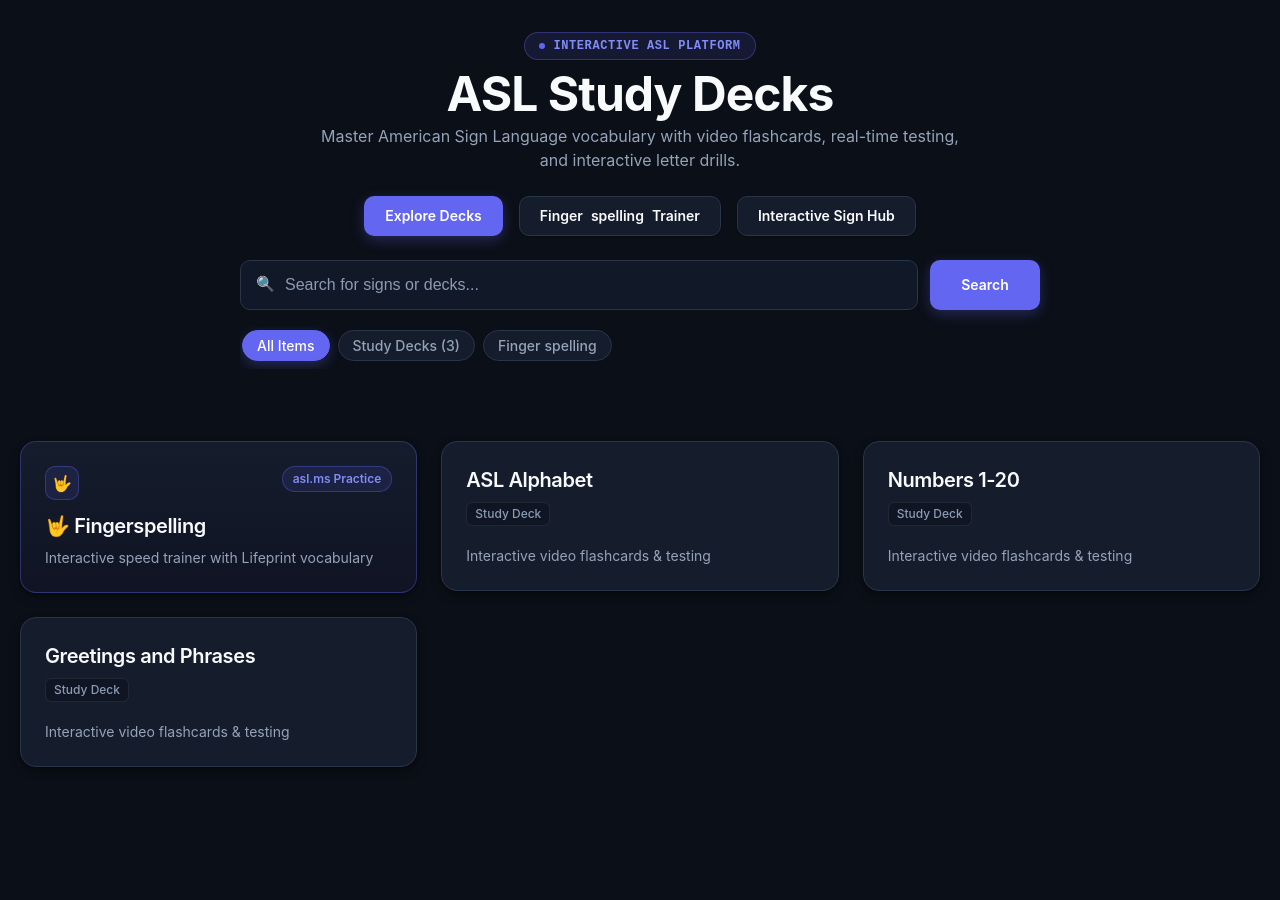
it: Home Component (Features 11 to 15) › Feature 12: Real-Time Search and Category Filters › filters decks in real-time as user types in the search input
The width and height of the screenshot is (1280, 900).
Expected: the heading "ASL Alphabet" is shown, [466,468,593,492]
Type "Alphabet" into the field with placeholder "Search for signs or decks...".
click(579, 284); type("Alphabet")  # box [240,260,918,310]
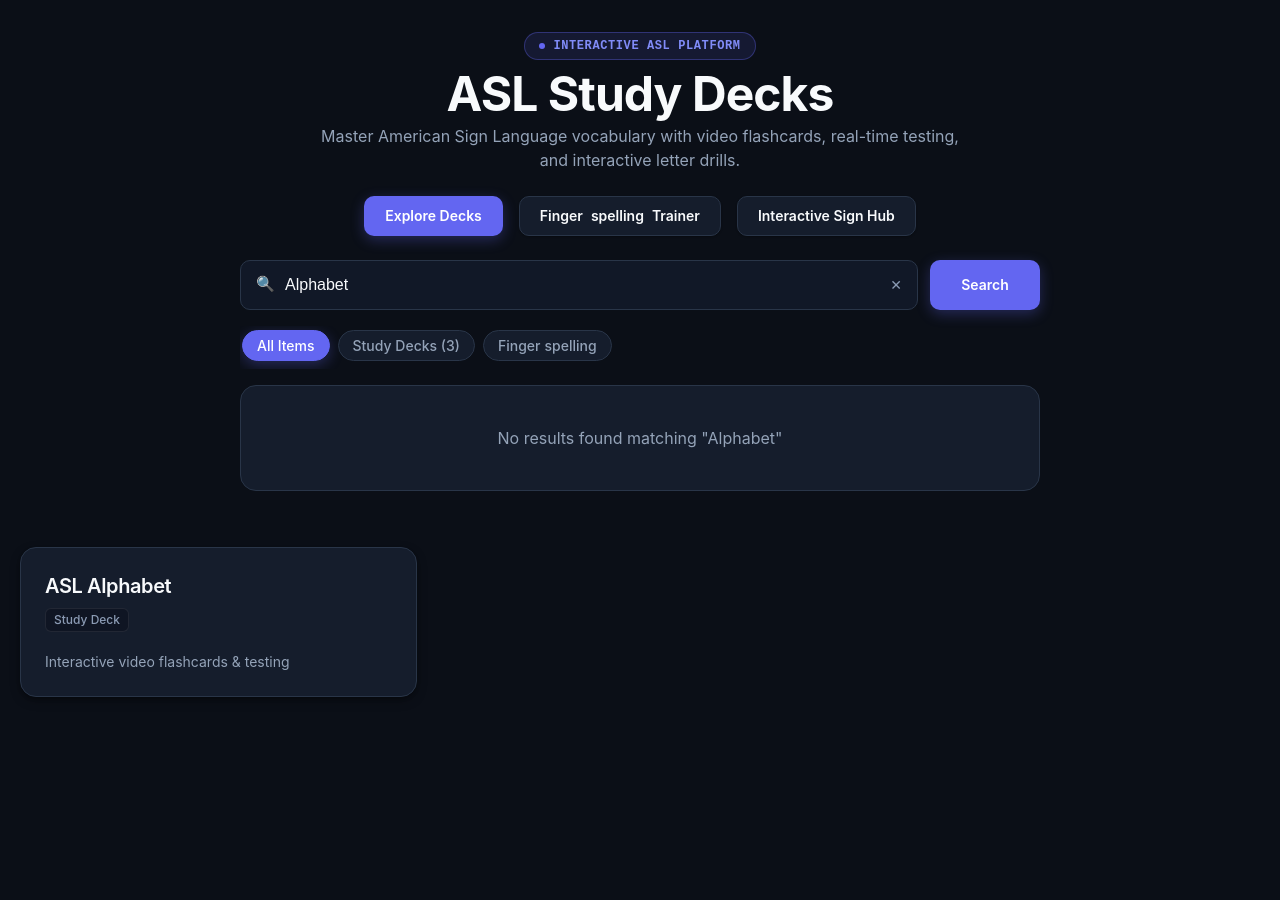
Expected: the heading "ASL Alphabet" is shown, [45,574,171,598]
Expected: the link "Numbers 1-20" is gone
Expected: the link "Greetings and Phrases" is gone
